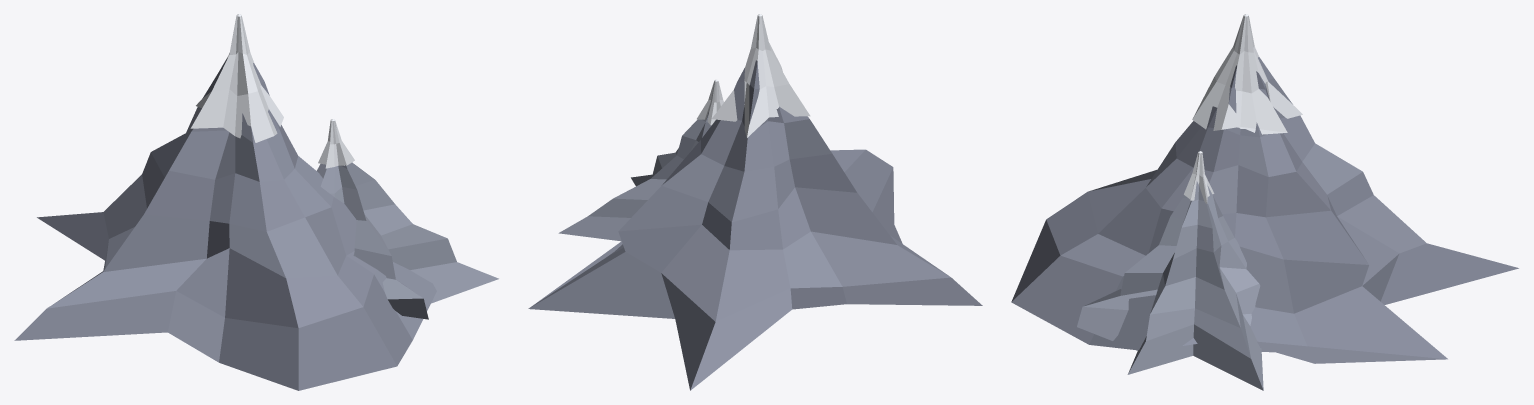
The model's file is spire_peak.glb.
3 renders of one model, left to right at view 1: azimuth 30°, elevation 25°; view 2: azimuth 150°, elevation 25°; view 3: azimuth 270°, elevation 25°, orthographic. The views are drawn at different scales.
Parts seen in each view (by area): view 1: peakdark, peak, snowcap; view 2: peakdark, snowcap, peak; view 3: peakdark, peak, snowcap.
Boxes of the visible parts, x1,y1,x2,y2 form: peakdark: [14, 57, 436, 390]; peak: [317, 162, 498, 319]; snowcap: [190, 14, 354, 168]; peakdark: [528, 60, 982, 390]; snowcap: [697, 14, 810, 137]; peak: [558, 112, 711, 241]; peakdark: [1011, 57, 1518, 363]; peak: [1077, 181, 1263, 390]; snowcap: [1184, 14, 1302, 203].
Size of the model in its own units: 67.06 by 42.31 by 67.98.
